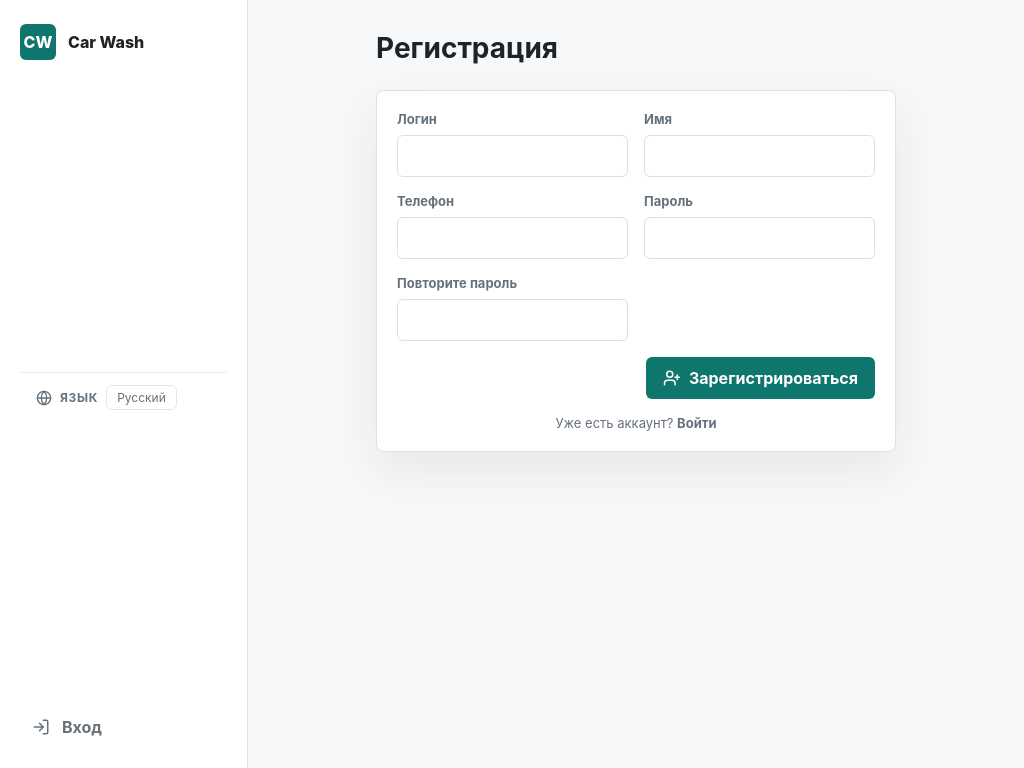
Test: App › validates the registration form
The width and height of the screenshot is (1024, 768).
Expected: the heading "Регистрация" is shown, [376, 32, 558, 66]
Click the button "Зарегистрироваться" at coordinates (760, 378), box [646, 357, 875, 399]
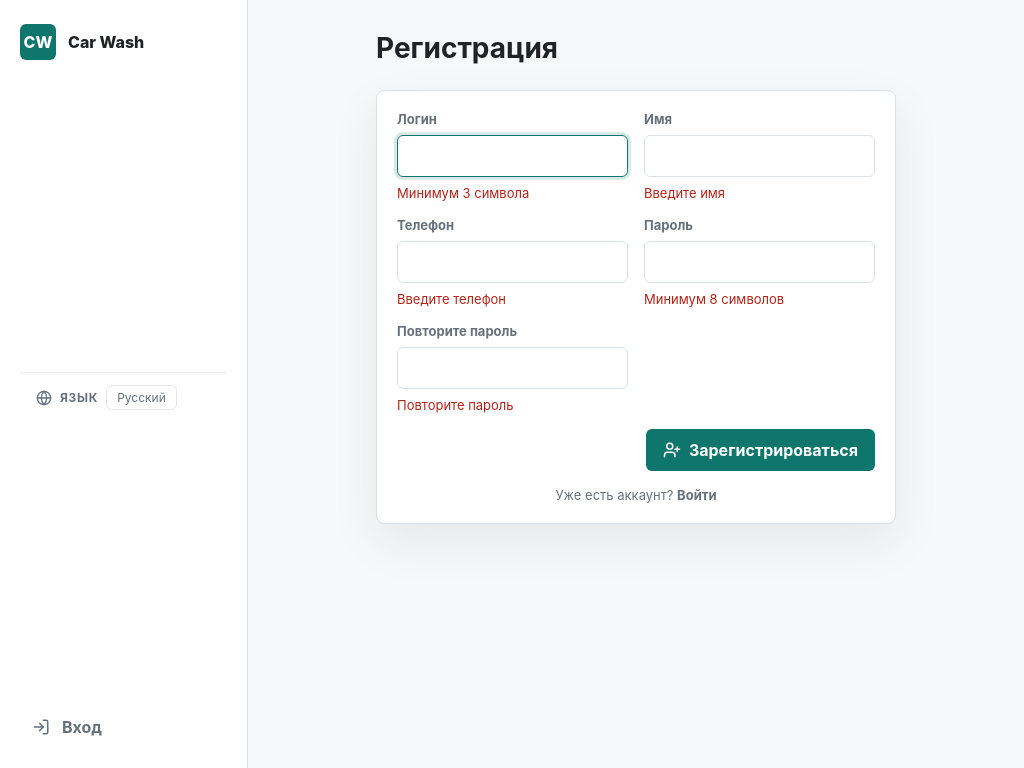
Expected: the text "Минимум 3 символа" is shown, [397, 185, 529, 201]
Expected: the text "Минимум 8 символов" is shown, [644, 291, 784, 307]
Expected: the text "Введите имя" is shown, [644, 185, 725, 201]
